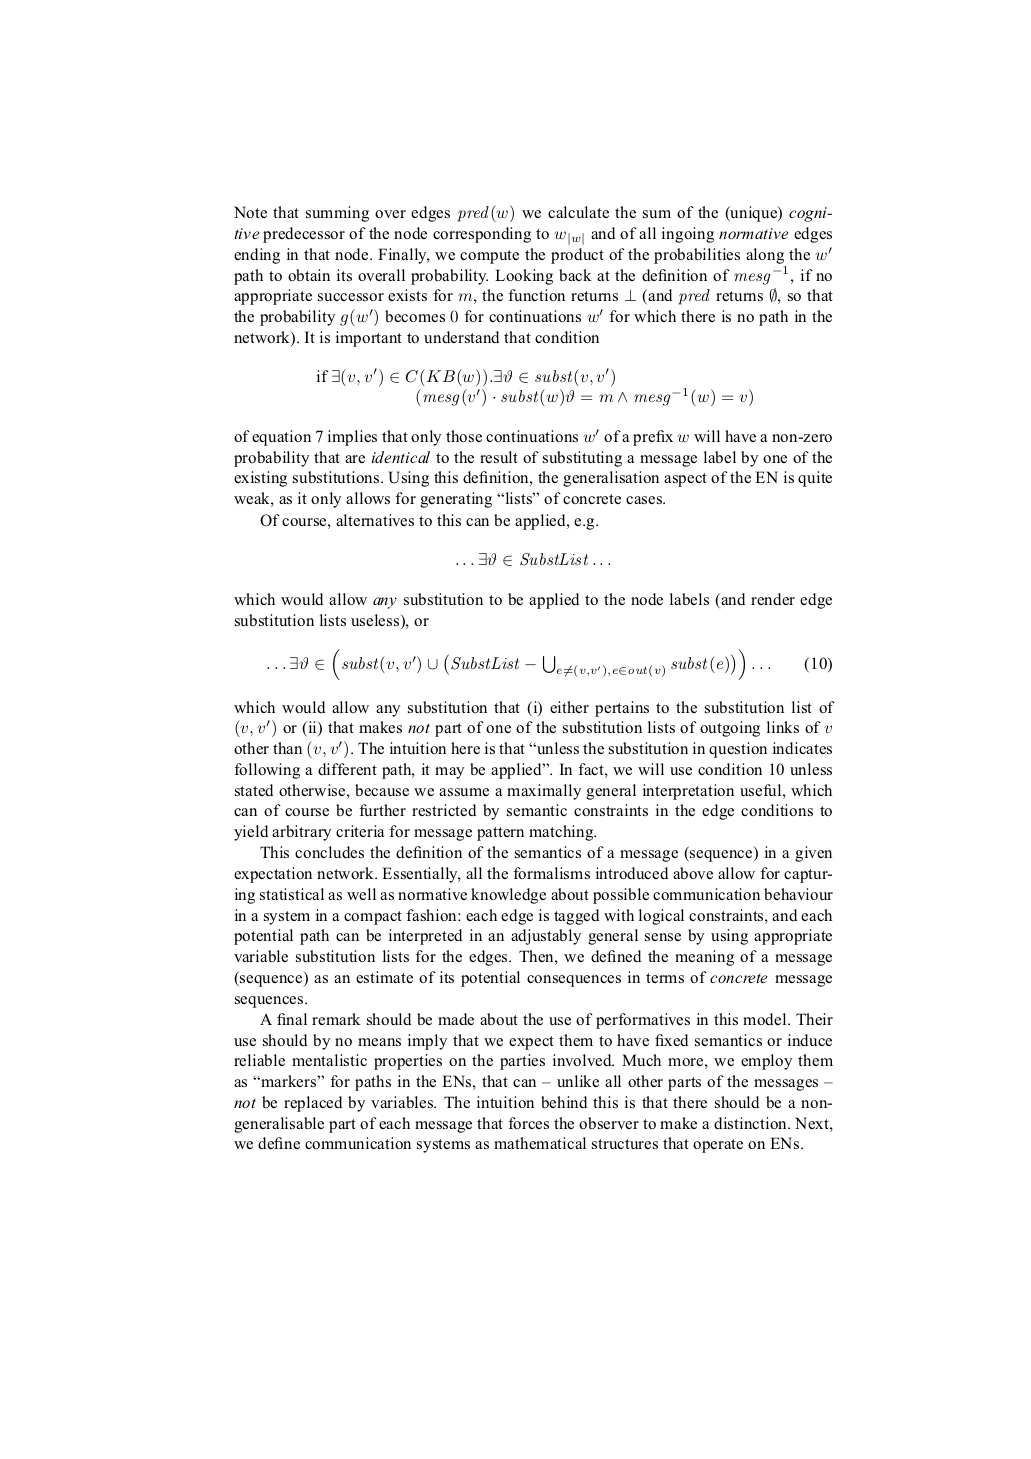formula: (267, 648, 831, 680), (416, 389, 752, 406), (316, 368, 614, 386), (456, 552, 610, 566)
